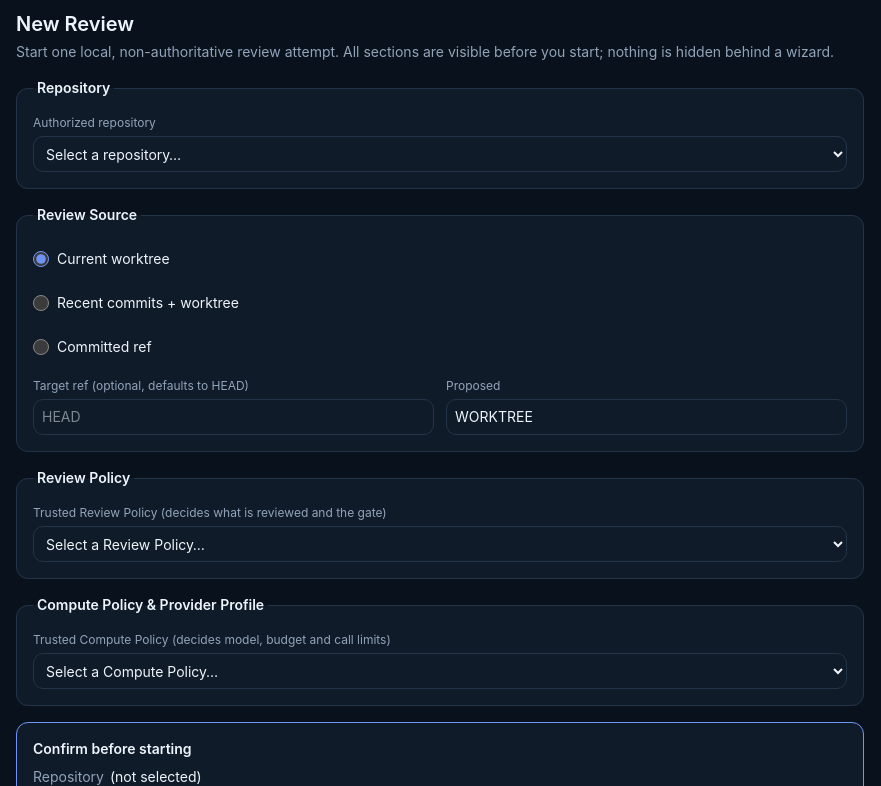
Scenario: NewReviewPage › applies source-mode field rules
The width and height of the screenshot is (881, 786).
Click the radio button labelled "Recent commits + worktree".
click(41, 303)  # box x1=33 y1=295 x2=49 y2=311
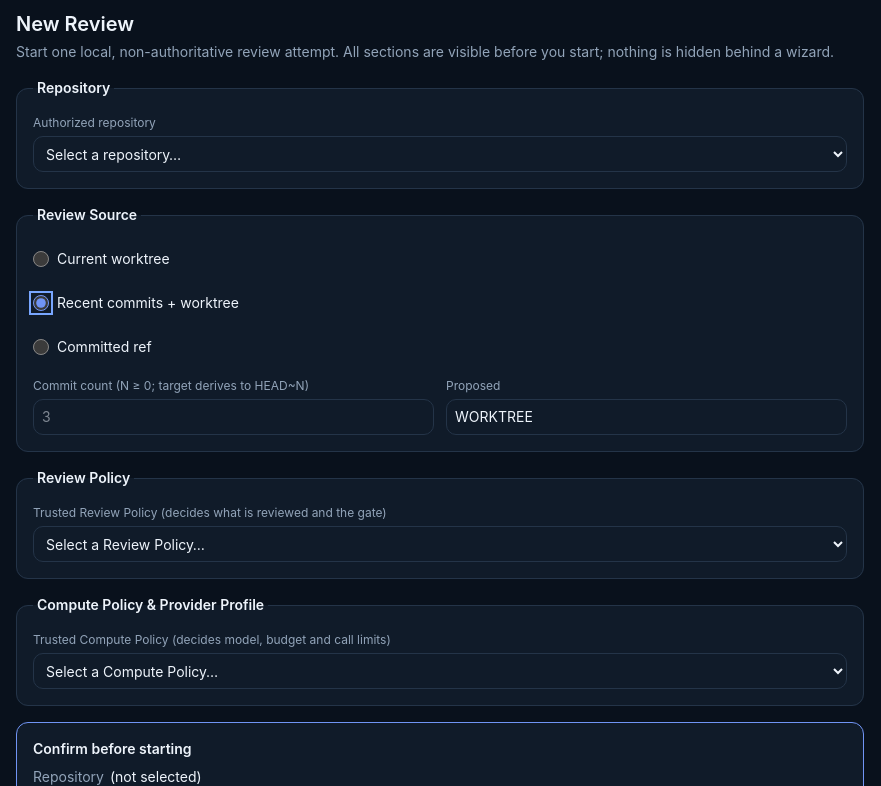
Expected: the number field labelled "Commit count (N ≥ 0; target derives to HEAD~N)" is shown, x1=33 y1=399 x2=434 y2=435
Expected: the field labelled "Proposed" is disabled, x1=446 y1=399 x2=847 y2=435
Click the radio button labelled "Committed ref".
click(41, 347)  # box x1=33 y1=339 x2=49 y2=355
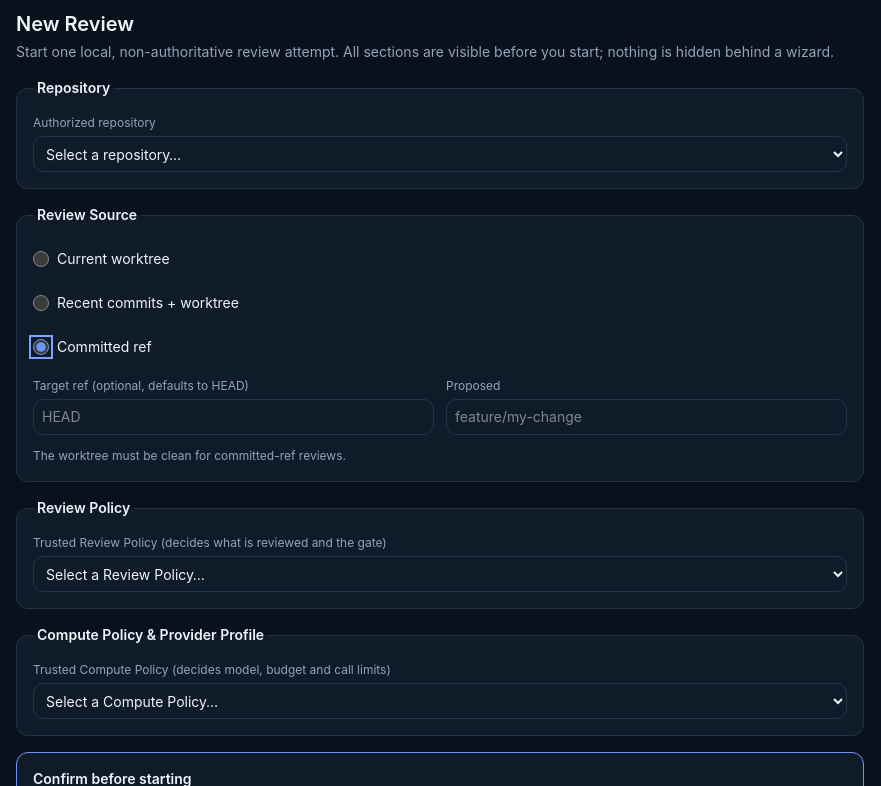
Now the field labelled "Proposed" is enabled, box x1=446 y1=399 x2=847 y2=435
Now the text "The worktree must be clean for committed-ref reviews." is shown, box x1=33 y1=448 x2=346 y2=463
